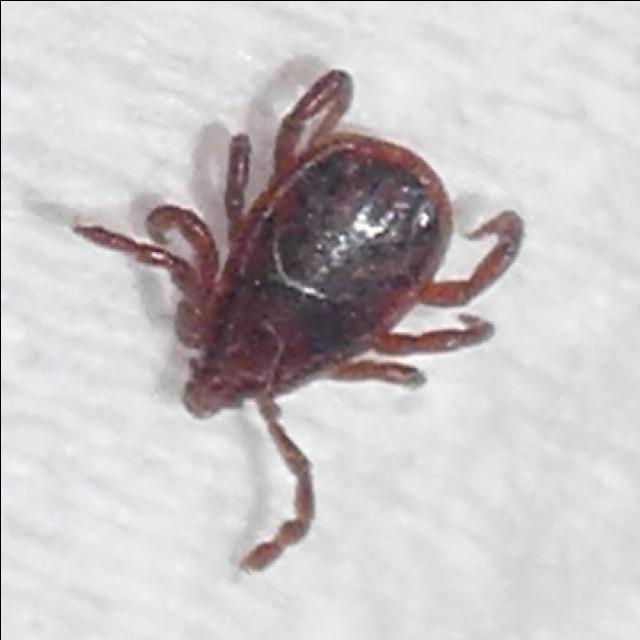Rhipicephalus Sanguineus-M: (71, 69, 527, 574)
